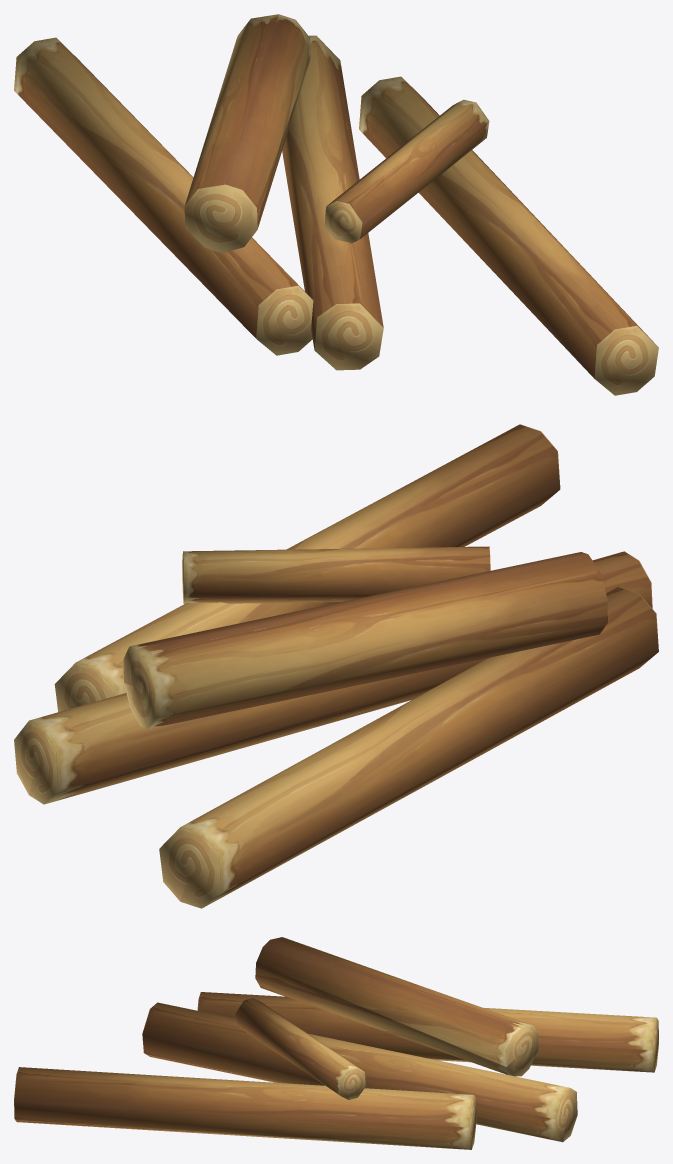
The model's file is rc_01_budA_11_02.FBX.
3 renders of one model, top to bottom at view 1: azimuth 30°, elevation 25°; view 2: azimuth 150°, elevation 25°; view 3: azimuth 270°, elevation 25°, orthographic. The views are drawn at different scales.
Visible parts, largest first — view 1: 对象027; view 2: 对象027; view 3: 对象027.
Boxes of the visible parts, x1,y1,x2,y2 form: 对象027: (14, 14, 658, 395); 对象027: (14, 424, 658, 908); 对象027: (14, 937, 658, 1149).
Bounding box in the file's own units: 1669 × 3536 × 599.
